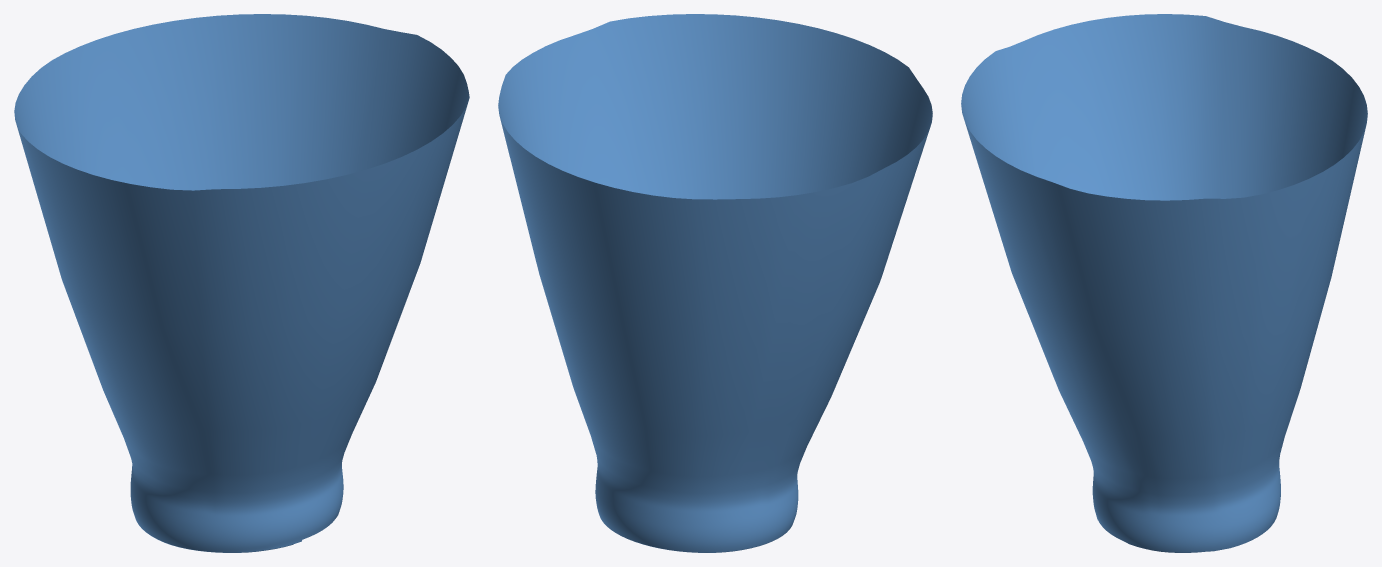
The model's file is watersndan1.glb.
3 renders of one model, left to right at view 1: azimuth 30°, elevation 25°; view 2: azimuth 150°, elevation 25°; view 3: azimuth 270°, elevation 25°, orthographic. The views are drawn at different scales.
Visible parts, largest first — view 1: Line002.001; view 2: Line002.001; view 3: Line002.001.
Boxes of the visible parts, <box> form: Line002.001: <box>14,14,469,552</box>; Line002.001: <box>498,14,932,552</box>; Line002.001: <box>961,14,1367,552</box>.
Size of the model in its own units: 48.63 by 49.09 by 44.58.
